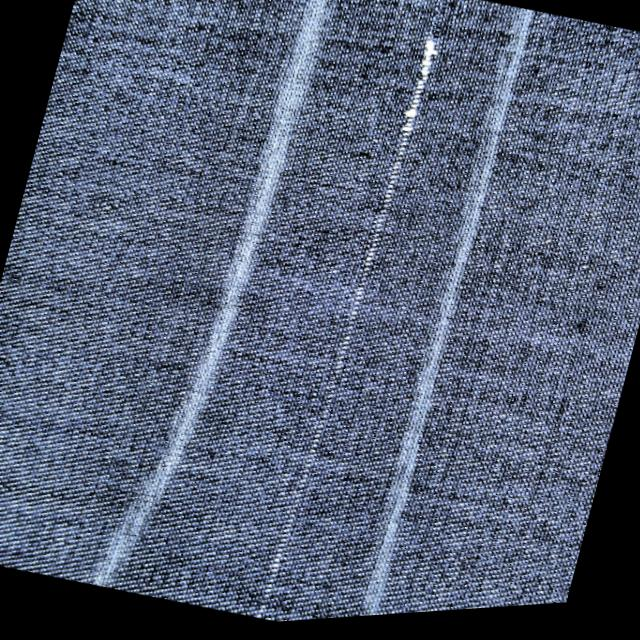Hole: (277, 314, 392, 495), (336, 155, 439, 306), (374, 21, 476, 157), (244, 480, 330, 603)
